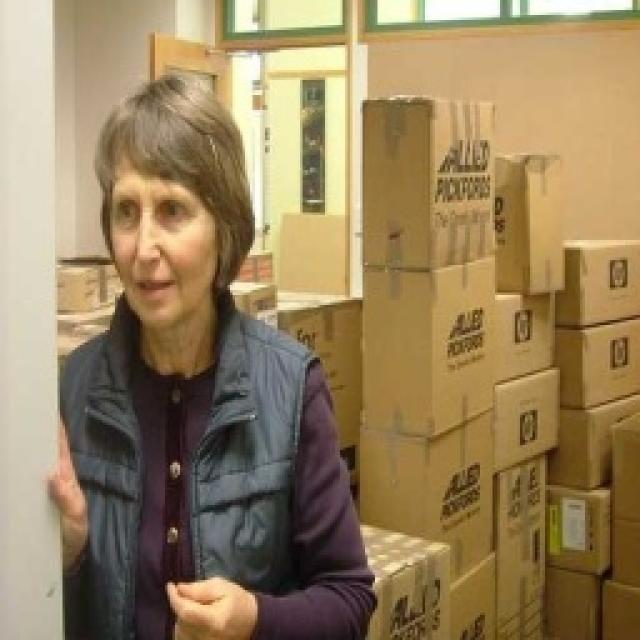box: (360, 97, 493, 266), (357, 422, 495, 573), (364, 268, 492, 429), (271, 275, 373, 445), (492, 154, 564, 294), (493, 468, 544, 640), (477, 370, 565, 466), (561, 224, 640, 320), (552, 320, 640, 395), (490, 290, 558, 375), (549, 483, 609, 573), (558, 404, 609, 496), (617, 405, 640, 580), (550, 564, 601, 640), (53, 257, 114, 305), (453, 577, 491, 640), (602, 580, 640, 640), (235, 280, 279, 312)
